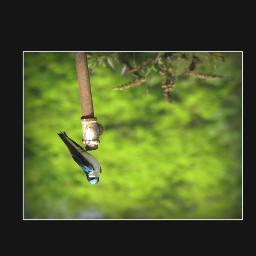Swallow: (57, 130, 102, 185)
